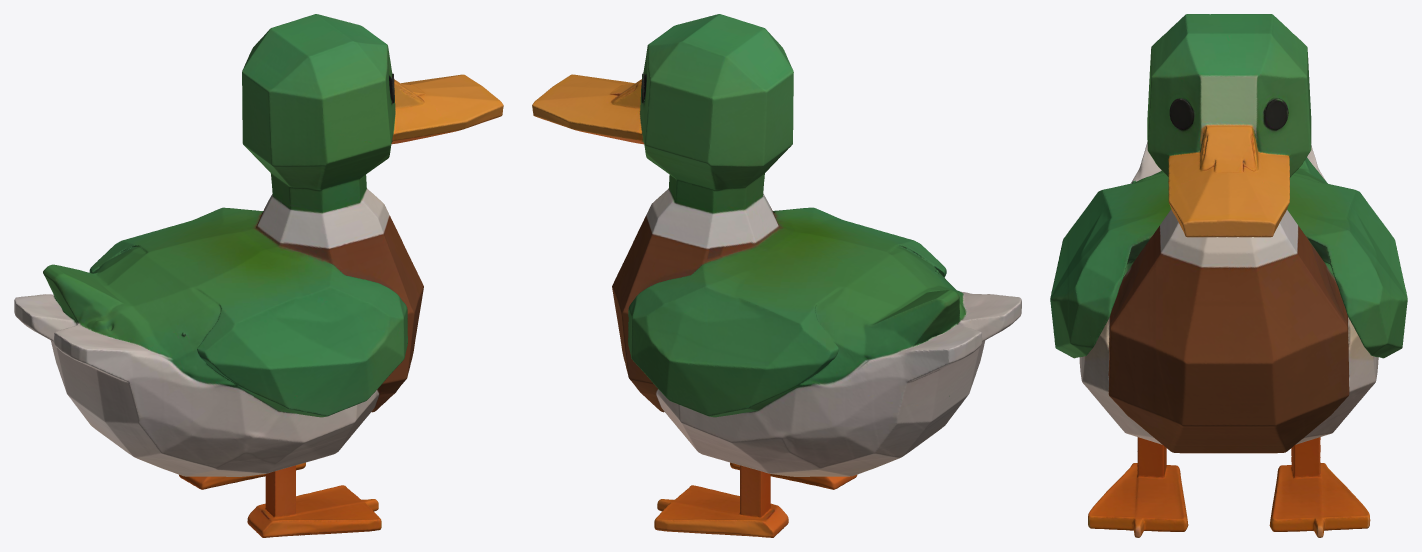
File: duck.glb
The picture shows the model from 3 angles, left to right: view 1: azimuth 30°, elevation 25°; view 2: azimuth 150°, elevation 25°; view 3: azimuth 270°, elevation 25°; orthographic projection. The views are drawn at different scales.
Visible parts, largest first — view 1: tripo_node_698f8334-bf1a-48d2-8382-dd01f6f46191; view 2: tripo_node_698f8334-bf1a-48d2-8382-dd01f6f46191; view 3: tripo_node_698f8334-bf1a-48d2-8382-dd01f6f46191.
Boxes of the visible parts, bbox=[...] form: tripo_node_698f8334-bf1a-48d2-8382-dd01f6f46191: bbox=[14, 14, 503, 537]; tripo_node_698f8334-bf1a-48d2-8382-dd01f6f46191: bbox=[532, 14, 1021, 537]; tripo_node_698f8334-bf1a-48d2-8382-dd01f6f46191: bbox=[1050, 14, 1407, 537].
Bounding box in the file's own units: 1 × 0.9799 × 0.63.
1 material, 1 textured.
